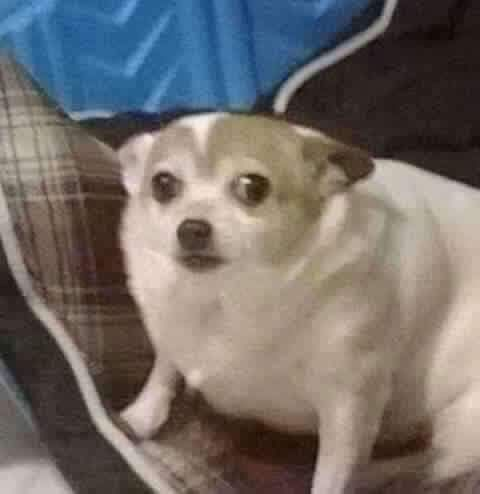dog: (115, 112, 480, 494)
